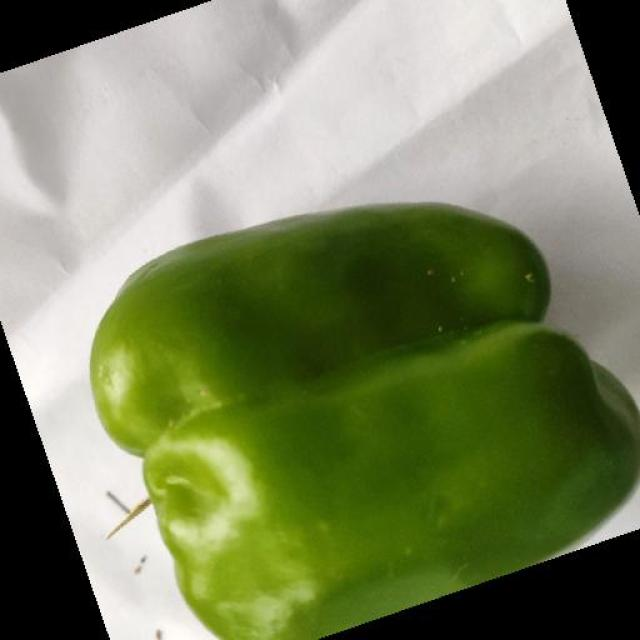Fresh_Capsicum: (112, 244, 640, 583)
